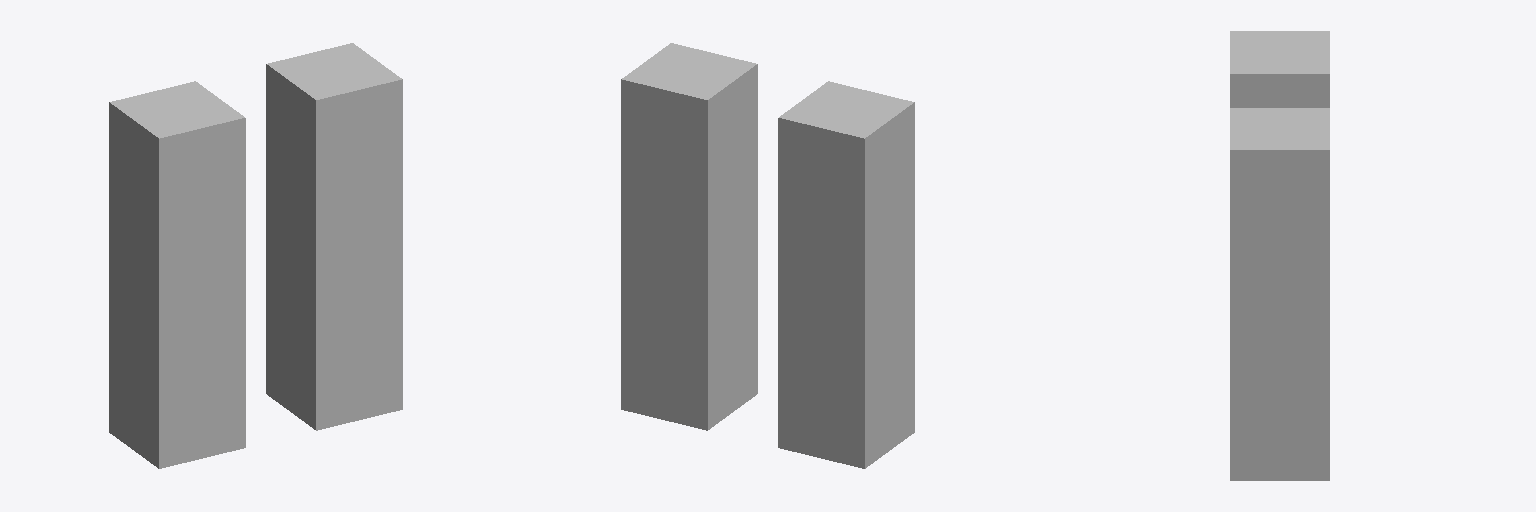
File: feet.obj
3 renders of one model, left to right at view 1: azimuth 30°, elevation 25°; view 2: azimuth 150°, elevation 25°; view 3: azimuth 270°, elevation 25°, orthographic.
Visible parts, largest first — view 1: feet_Cube.006; view 2: feet_Cube.006; view 3: feet_Cube.006.
Part boxes in pixels (bbox=[...]): feet_Cube.006: bbox=[109, 43, 402, 468]; feet_Cube.006: bbox=[621, 43, 914, 468]; feet_Cube.006: bbox=[1230, 31, 1329, 480].
Size of the model in its own units: 1.33 by 1.72 by 0.4704.